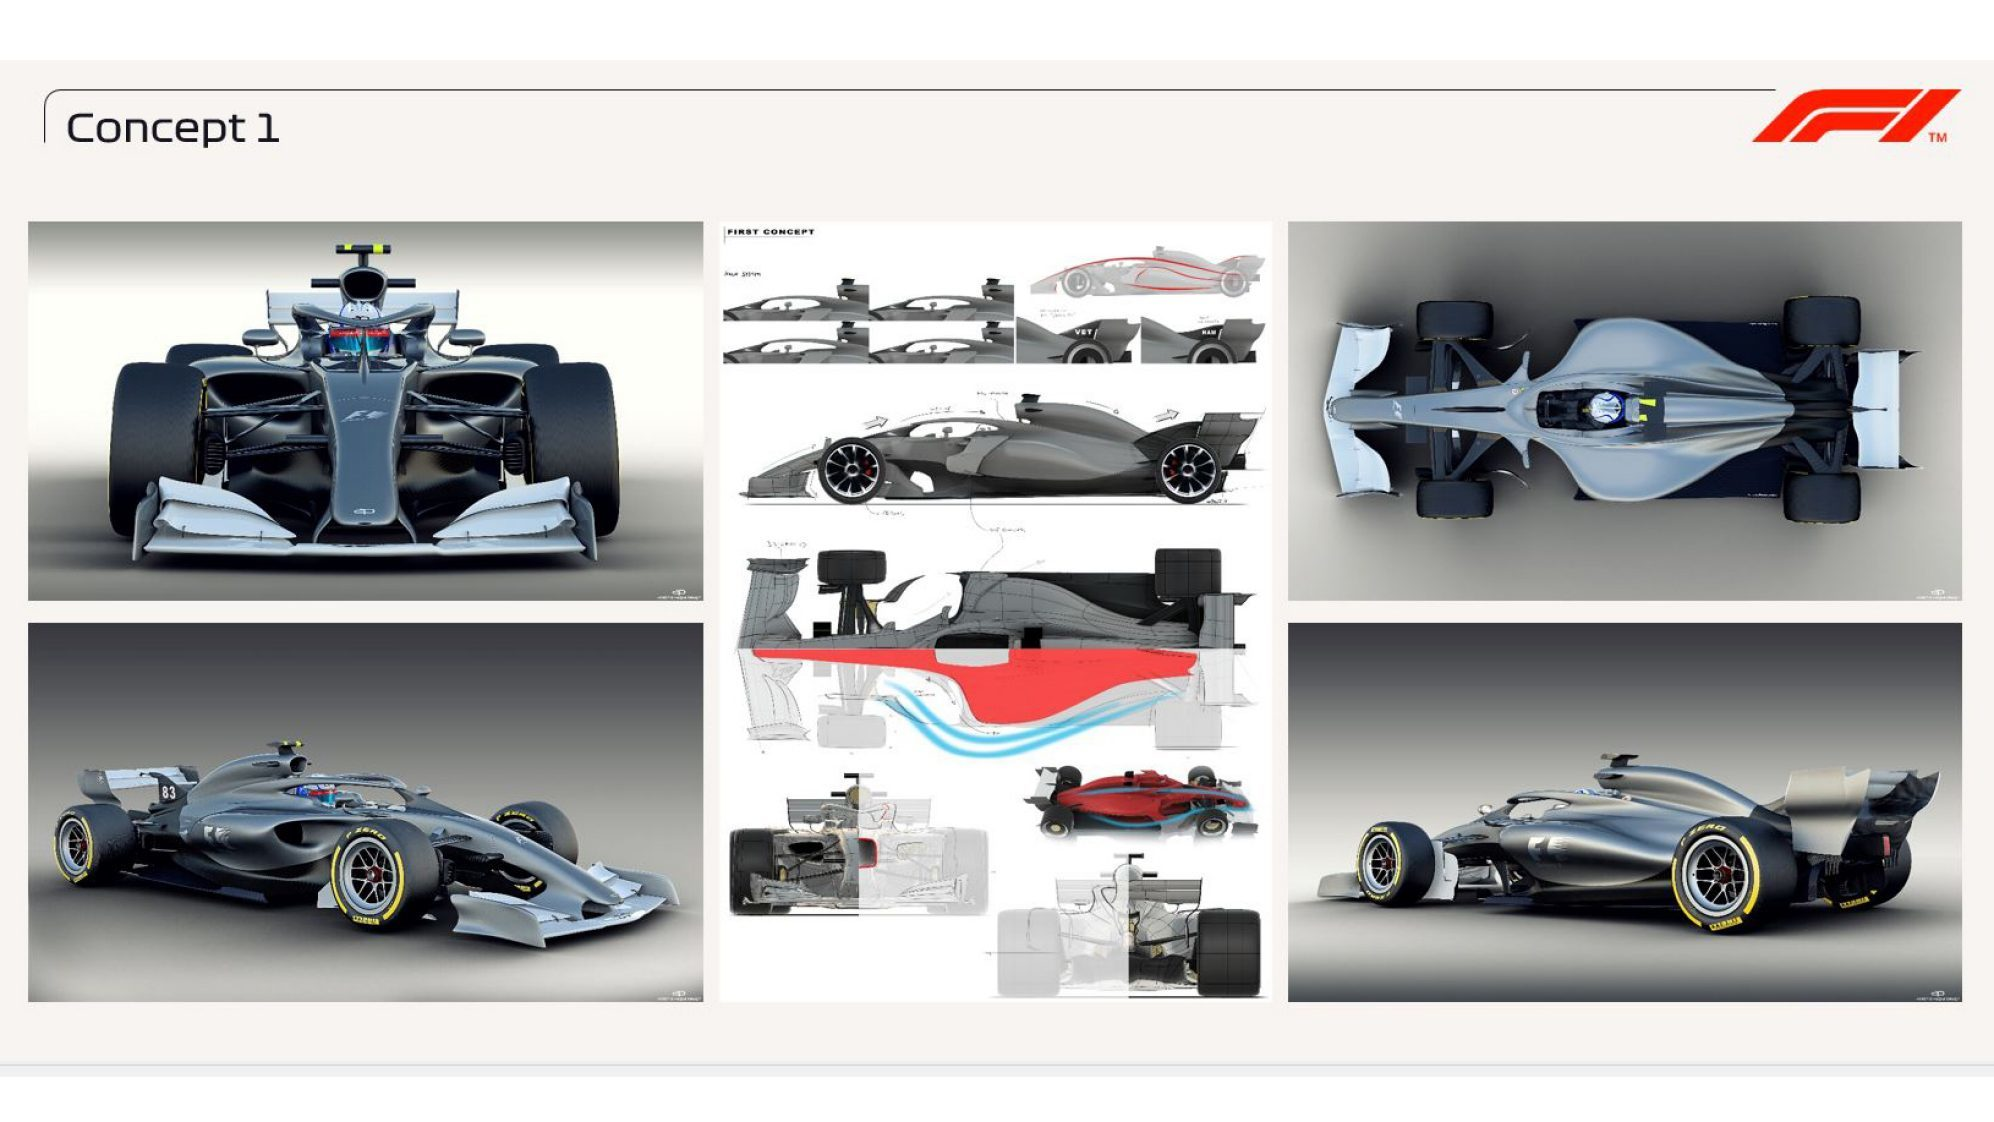f1_car: (90, 227, 646, 585), (1300, 273, 1945, 559), (51, 723, 693, 970), (1304, 722, 1952, 959)
